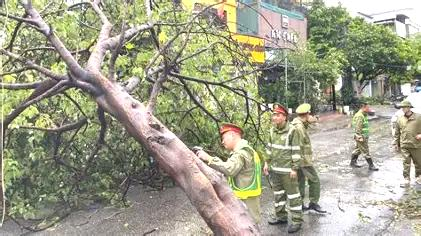ROAD_OBSTACLE: (0, 2, 350, 234)
